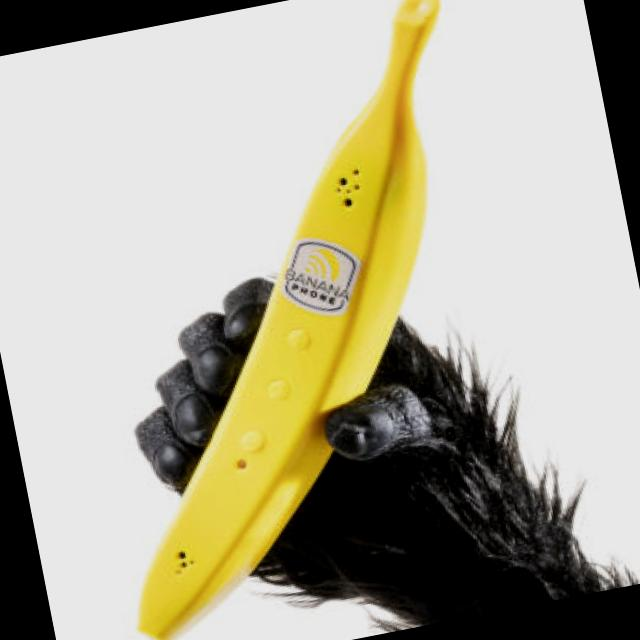banana: (6, 0, 575, 640)
